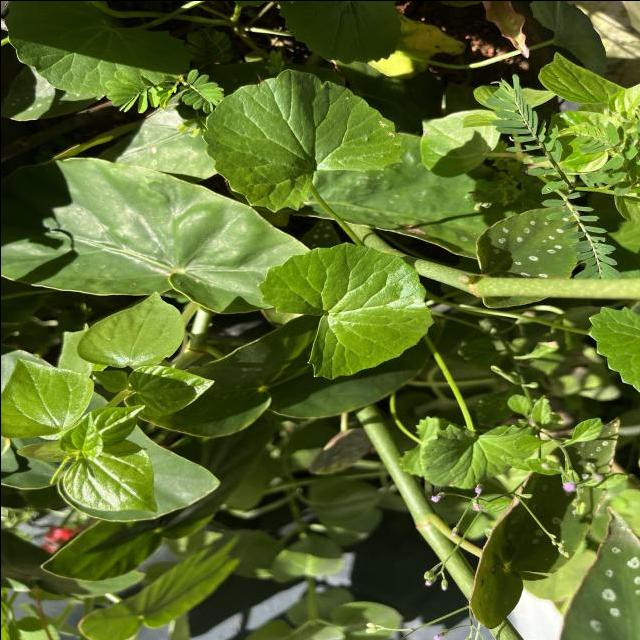Centella asiatica: (198, 66, 408, 216), (254, 238, 436, 382), (1, 0, 200, 101)
